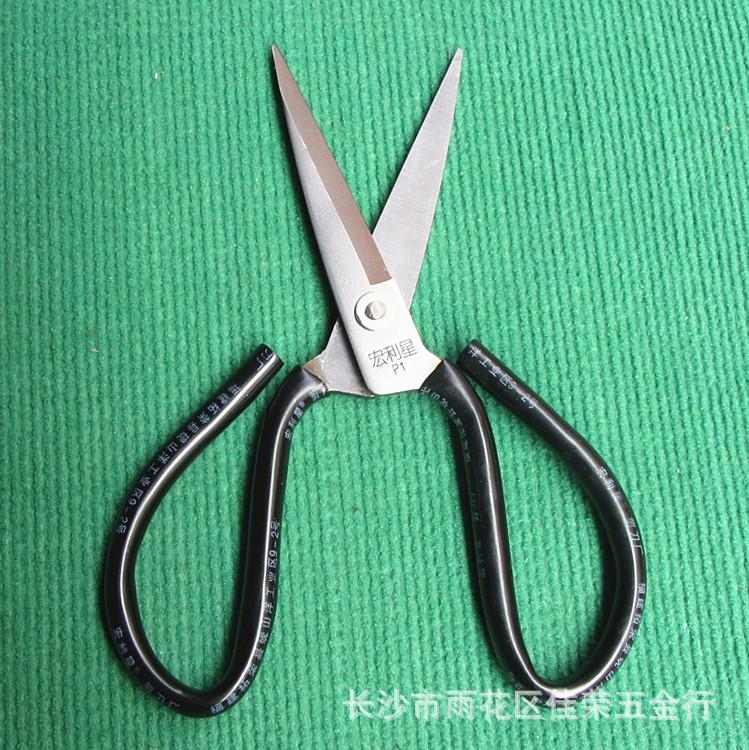scissor: (220, 28, 667, 701)
